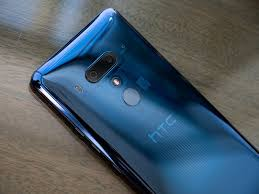htc: (25, 6, 259, 193)
